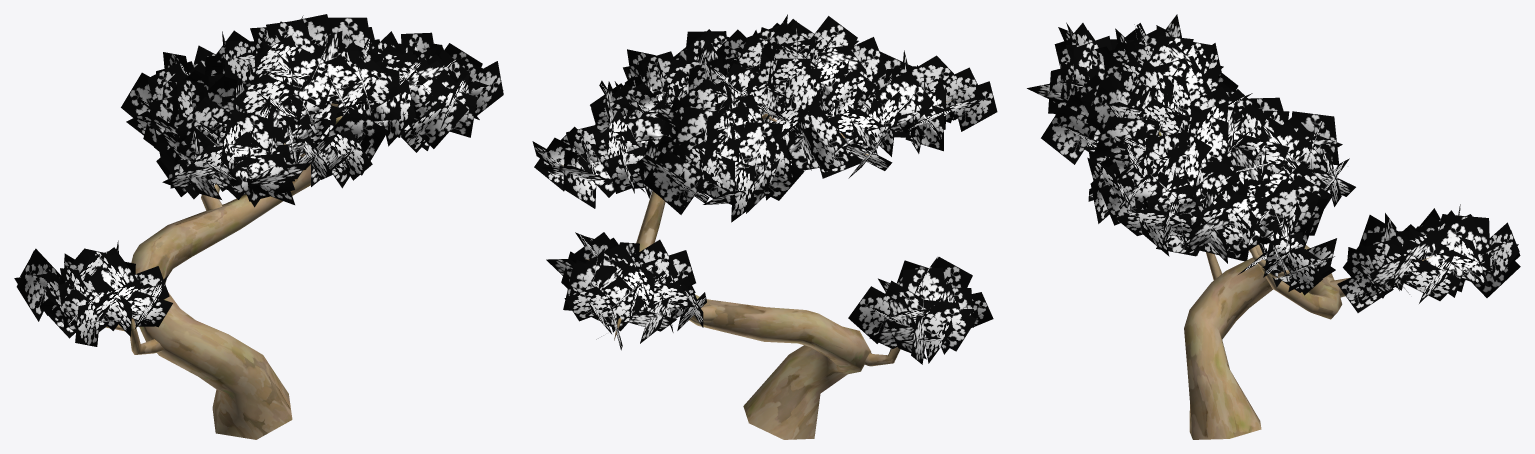
The model's file is P_KnotwoodTree04_Gold.obj.
3 renders of one model, left to right at view 1: azimuth 30°, elevation 25°; view 2: azimuth 150°, elevation 25°; view 3: azimuth 270°, elevation 25°, orthographic. The views are drawn at different scales.
Bounding box in the file's own units: 18.52 × 16.46 × 17.92.
